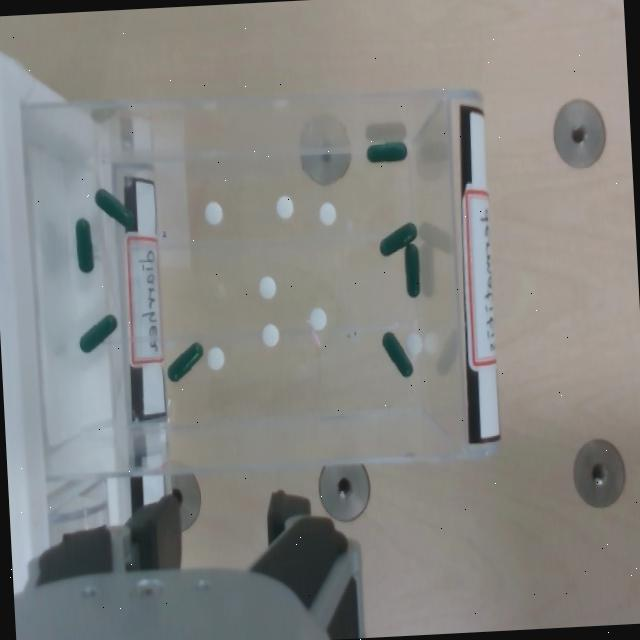ganakan_tab: (205, 344, 226, 372), (204, 199, 224, 227), (275, 195, 295, 221), (261, 321, 281, 347), (405, 330, 424, 356), (258, 275, 277, 300), (318, 202, 337, 226), (308, 306, 326, 331)
monodoxy_cap: (95, 183, 137, 232), (77, 311, 119, 354), (166, 339, 206, 382), (381, 328, 415, 378), (378, 220, 420, 259), (96, 189, 135, 230), (80, 314, 118, 352), (168, 342, 204, 382), (383, 332, 414, 377), (74, 216, 96, 274), (380, 223, 417, 255), (76, 217, 95, 273), (365, 141, 408, 165), (404, 243, 422, 299), (405, 243, 421, 297), (368, 142, 407, 162)
